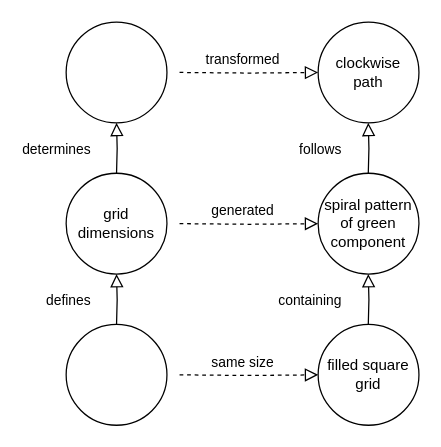
Image size: 441x447. Some labels were removed from this diagram. The box of each missing label's shape, as (x1, y1, x2, y2) in pixels:
empty square grid: (65, 323, 167, 425)
starting position (top-left): (65, 21, 167, 123)
